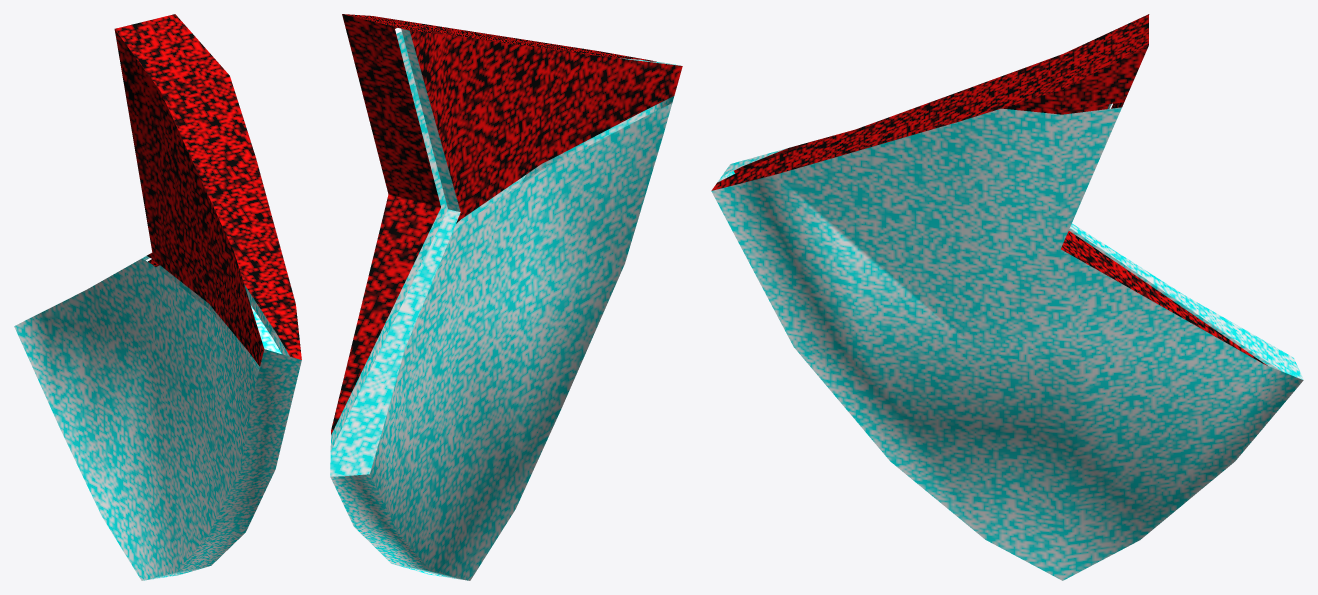
The model's file is SM_Debris_02_KMH.fbx.
3 views of the same model, side by side, from view 1: azimuth 30°, elevation 25°; view 2: azimuth 150°, elevation 25°; view 3: azimuth 270°, elevation 25° (orthographic). The views are drawn at different scales.
Parts seen in each view (by area): view 1: SM_Debris_02_KMH; view 2: SM_Debris_02_KMH; view 3: SM_Debris_02_KMH.
Part boxes in pixels (box(x1,y1,x2,y2)): SM_Debris_02_KMH: box(14, 14, 301, 580); SM_Debris_02_KMH: box(330, 14, 682, 580); SM_Debris_02_KMH: box(711, 14, 1303, 580).
Size of the model in its own units: 2.02 by 8.28 by 8.01.
